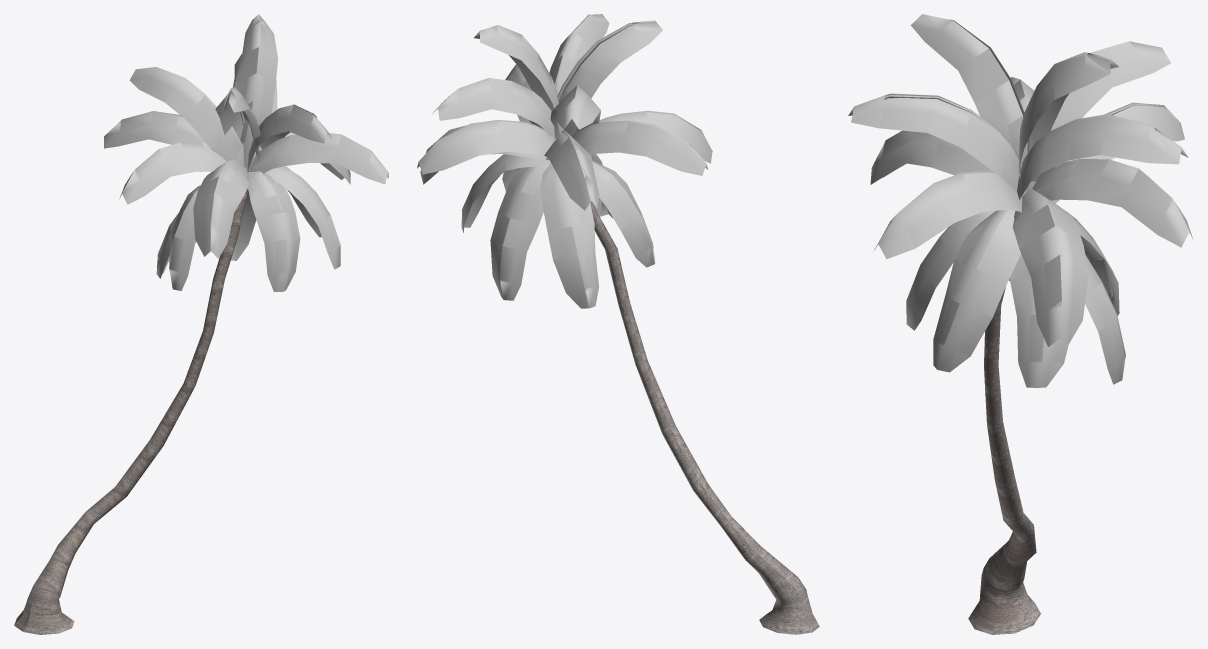
The model's file is palm2.fbx.
3 renders of one model, left to right at view 1: azimuth 30°, elevation 25°; view 2: azimuth 150°, elevation 25°; view 3: azimuth 270°, elevation 25°, orthographic. The views are drawn at different scales.
Visible parts, largest first — view 1: palm2; view 2: palm2; view 3: palm2.
Boxes of the visible parts, bbox=[...] form: palm2: bbox=[14, 14, 388, 634]; palm2: bbox=[417, 14, 819, 634]; palm2: bbox=[848, 14, 1193, 634].
Bounding box in the file's own units: 232 × 329 × 141.
